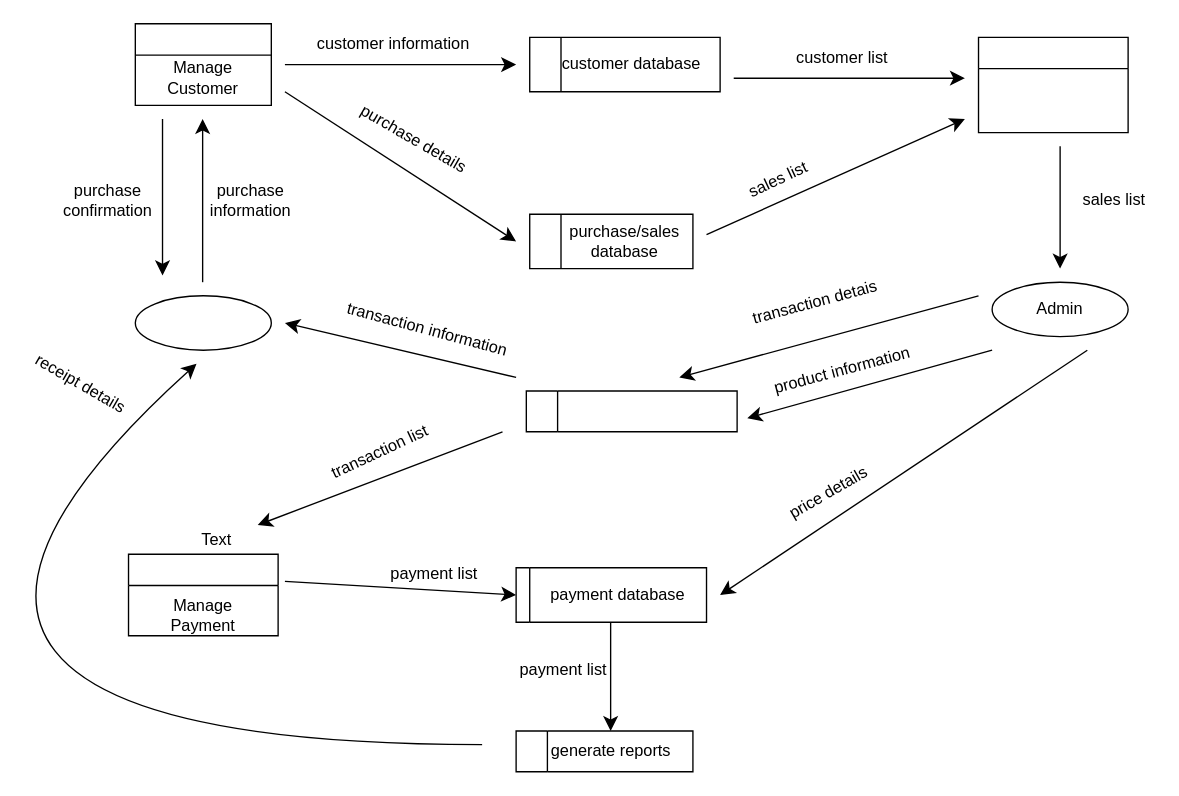
Some shapes in this 1179 by 796 pixel diagram are drawn without their labels. The box of each missing label's shape, as (x1, y1, x2, y2) in pixels:
Customer: (134, 294, 271, 350)
Manage Sales: (977, 36, 1128, 133)
transaction database: (525, 390, 737, 432)
